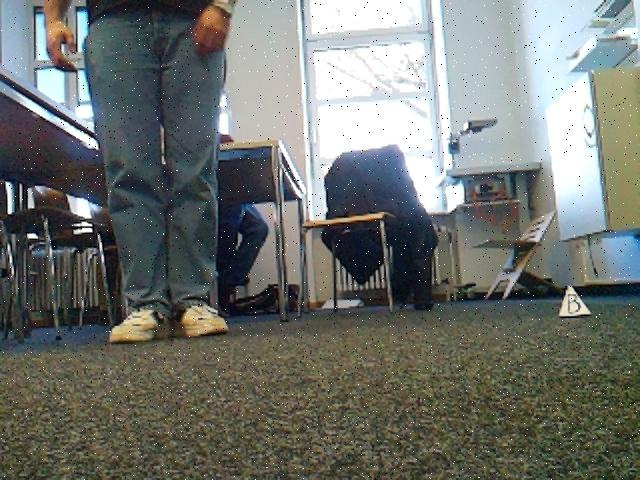B: (560, 285, 590, 316)
